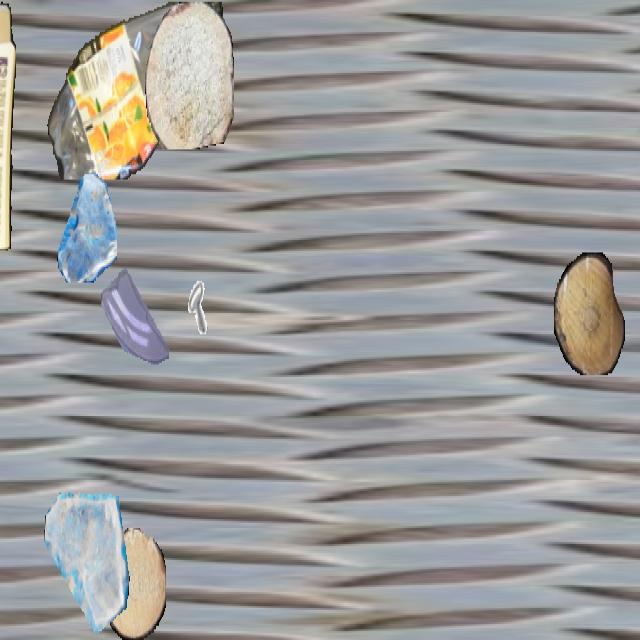glass: (43, 486, 129, 638), (101, 256, 169, 377), (56, 174, 116, 281)
metal: (163, 272, 209, 354)
plastic: (46, 2, 228, 180), (0, 2, 15, 250)
wood: (145, 2, 233, 148), (554, 252, 624, 374), (104, 528, 166, 638)
